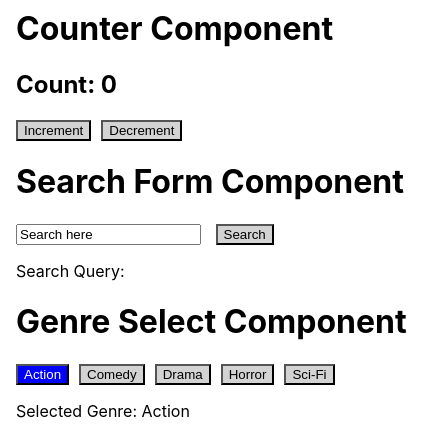
Test: SearchForm Component E2E Test › updates the displayed query when searching via Enter key press
The image size is (424, 435).
Replace the text in the field with placeholder "Search..." with "another query" at point(109, 235), box [16,224,201,245]
Then press Enter
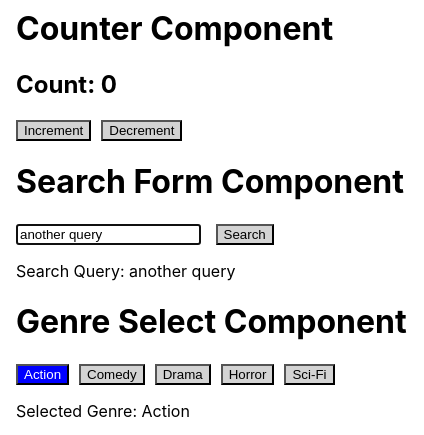
Expected: the text with id "search-result" reads "Search Query: another query", [16,261,235,281]
